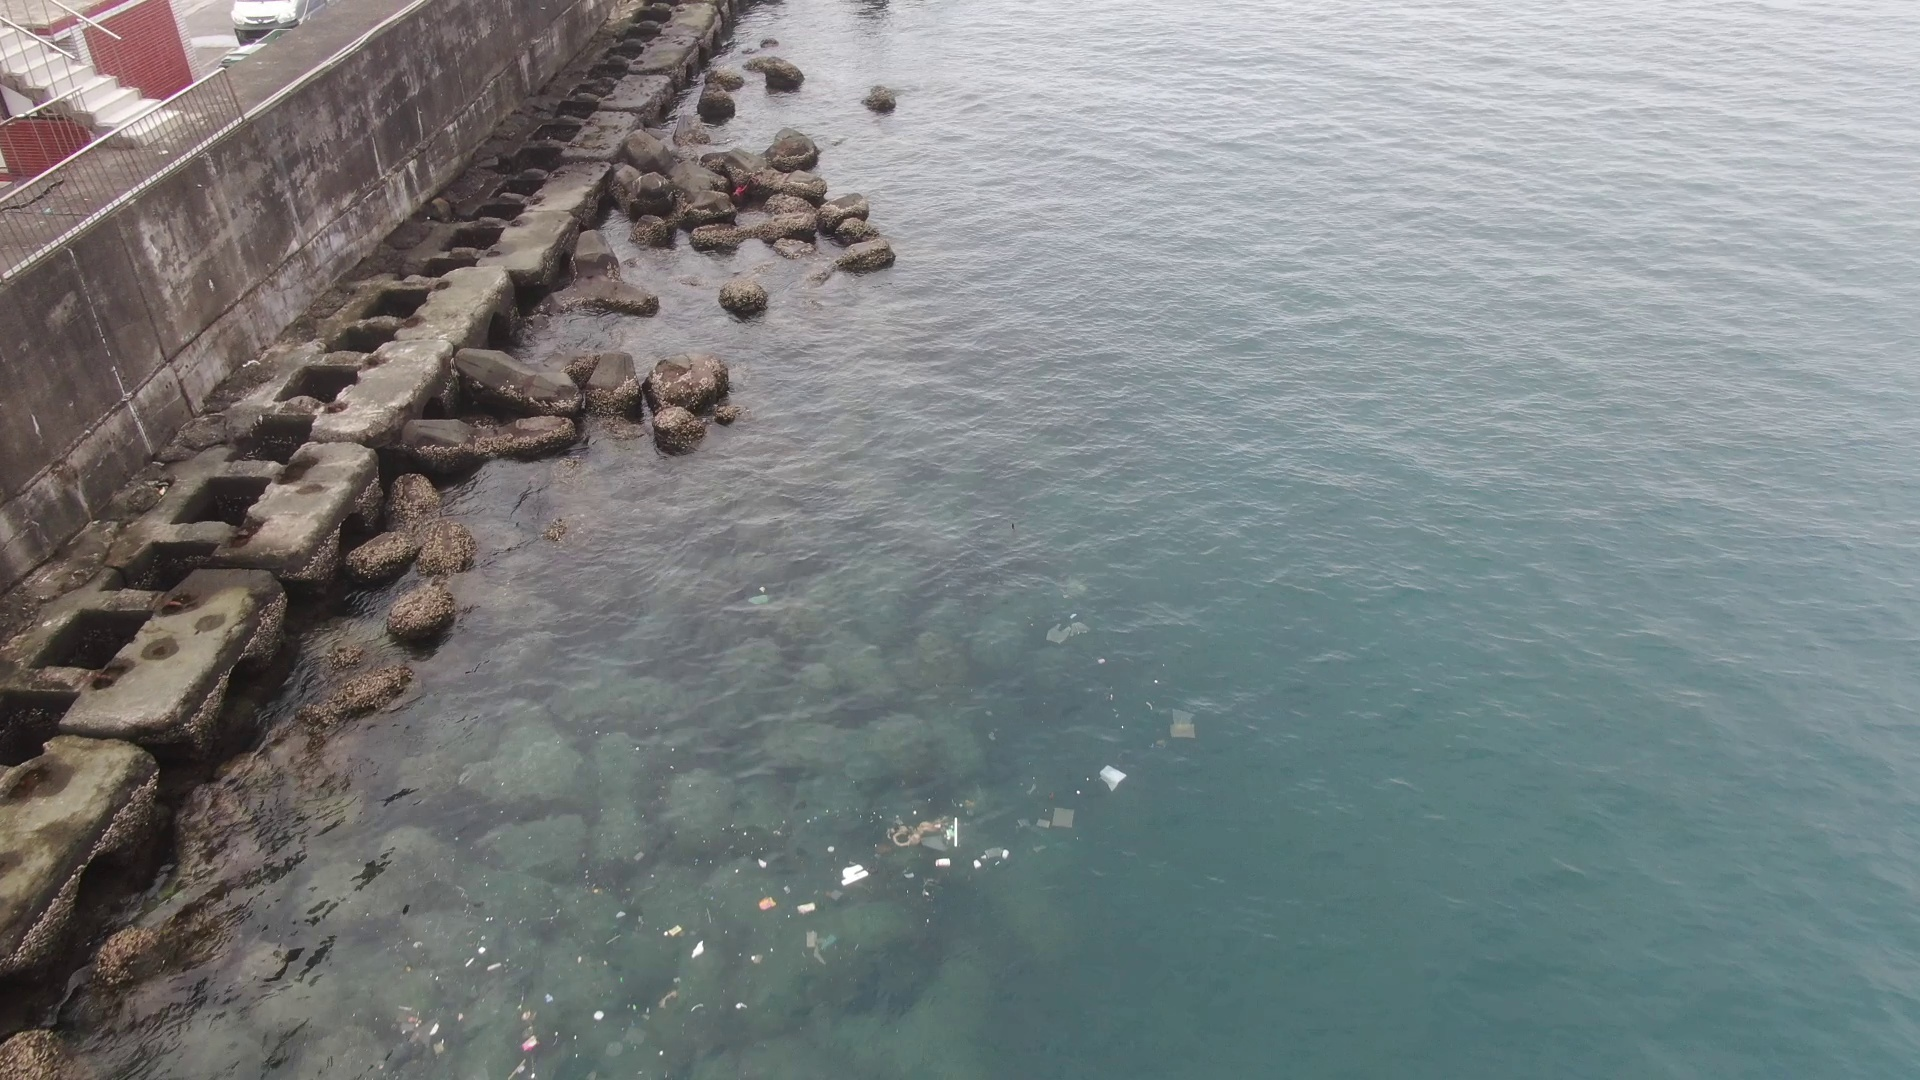garbage: (327, 705, 1224, 1080)
